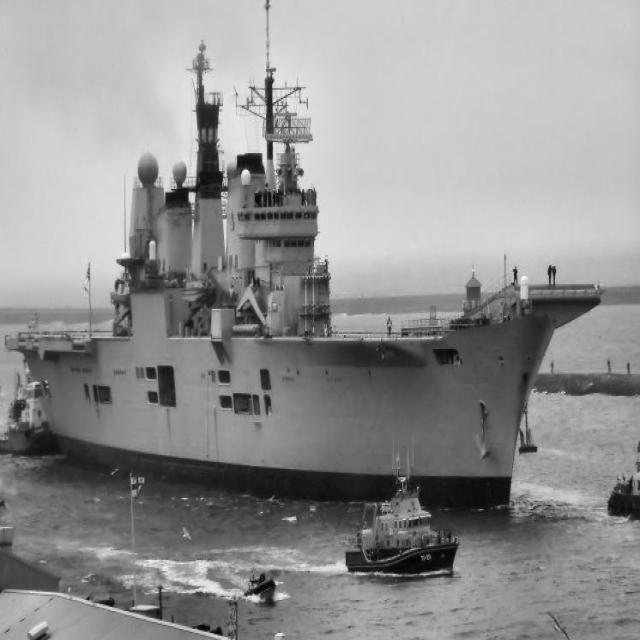Portanaves: (9, 1, 605, 522)
